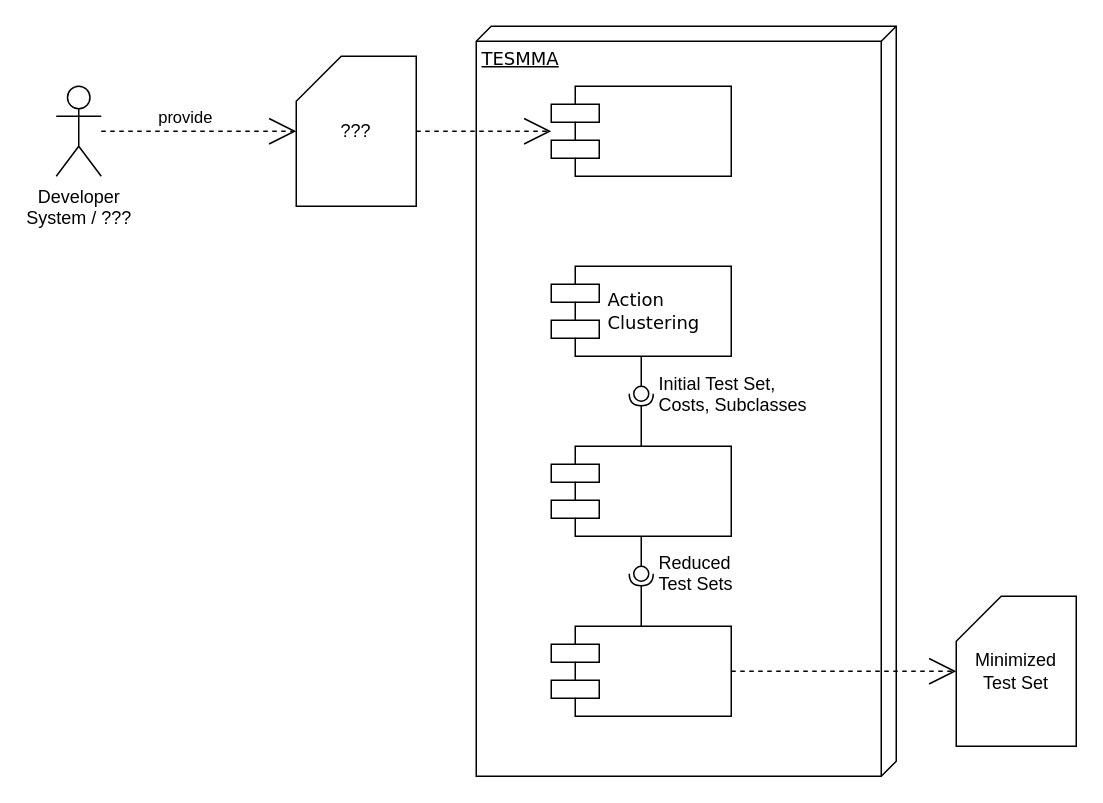
This 1103x803 diagram has some shape labels left out. The shapes that lost their labels are listed below. From the top down, each one's box as (x1, y1, x2, y2) in pixels, then its label:
(550, 85, 731, 176): Output Clustering
(550, 445, 731, 536): IMPRO
(550, 625, 731, 716): Genetic Search
